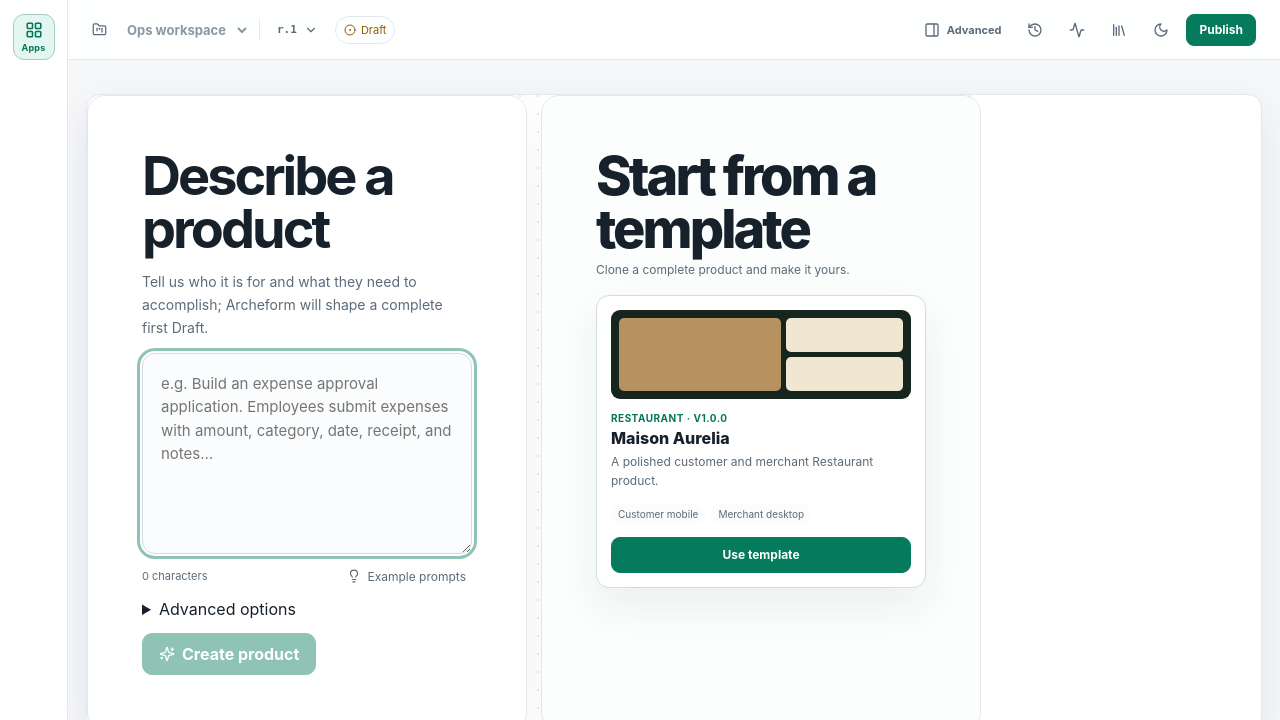
Test: Workbench shell › reuses the clone request identity after a recoverable response failure
This screenshot has width=1280, height=720.
Click the button with aria-label "Start from Maison Aurelia". click: (761, 555)
box: 611,537 -> 911,573
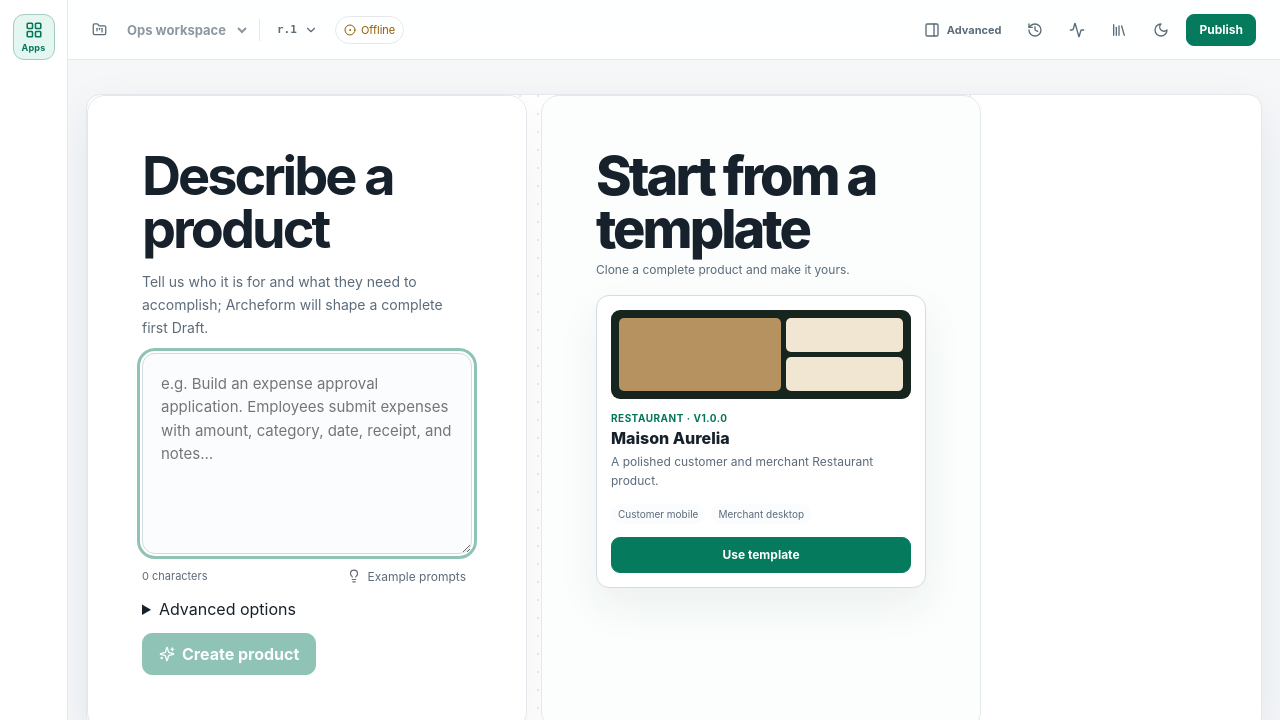
Click the button with aria-label "Start from Maison Aurelia". click: (761, 555)
box: 611,537 -> 911,573
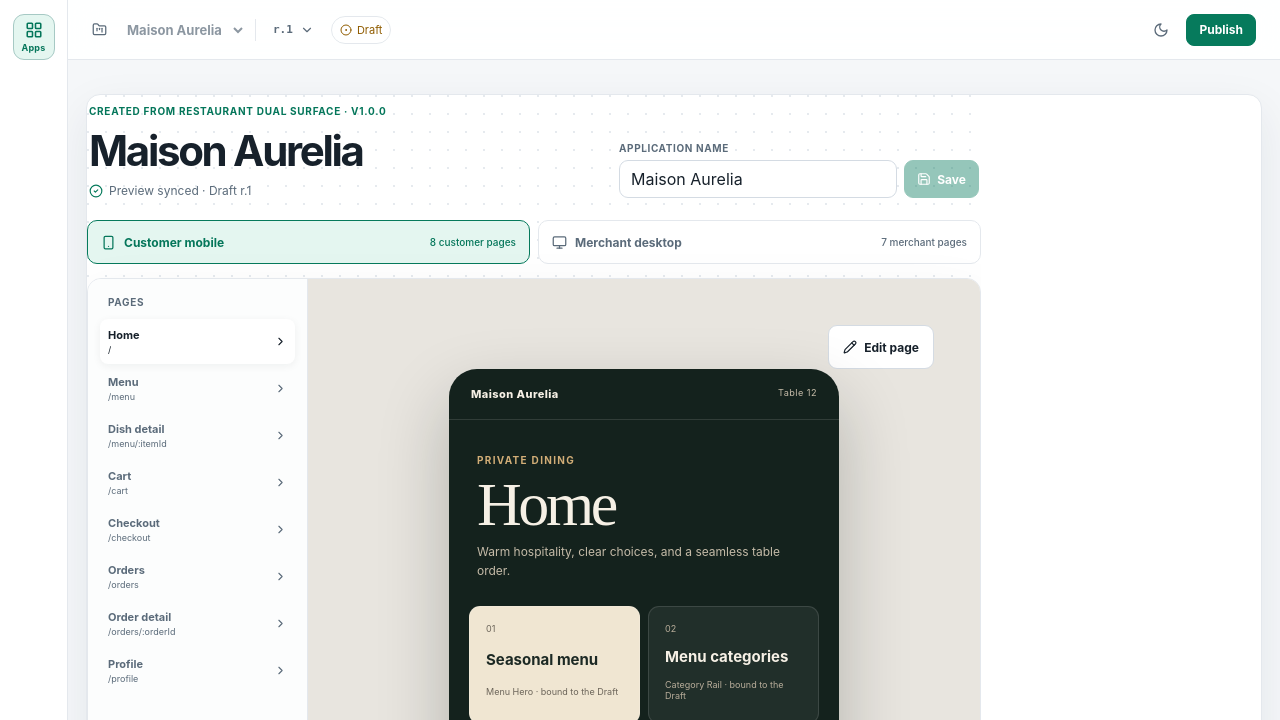
Now the text "Preview synced · Draft r.1" is shown, box 89,183 -> 251,198
